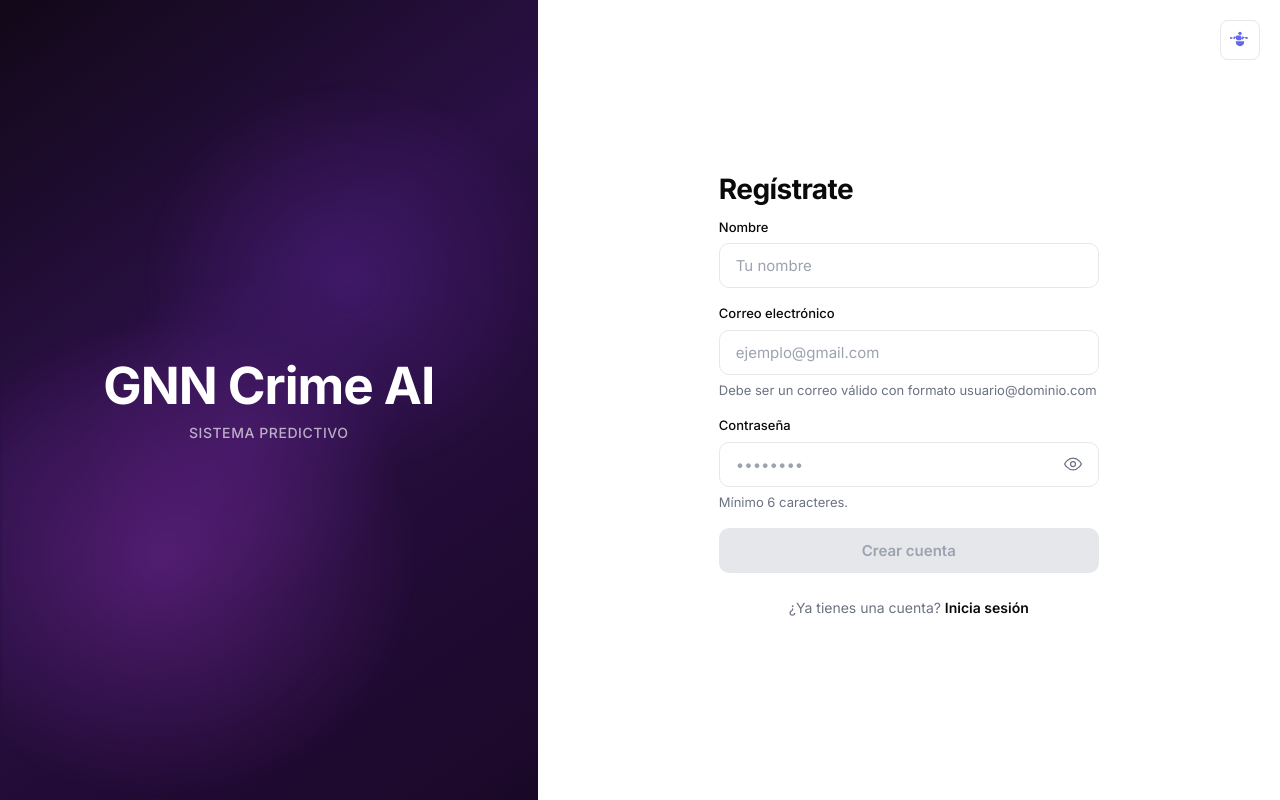
Test: RegisterPage › habilita el botón con formulario válido
Type "Juan Pérez" into the field with test id "register-name-input" at (909,266), box [719,243,1099,288]
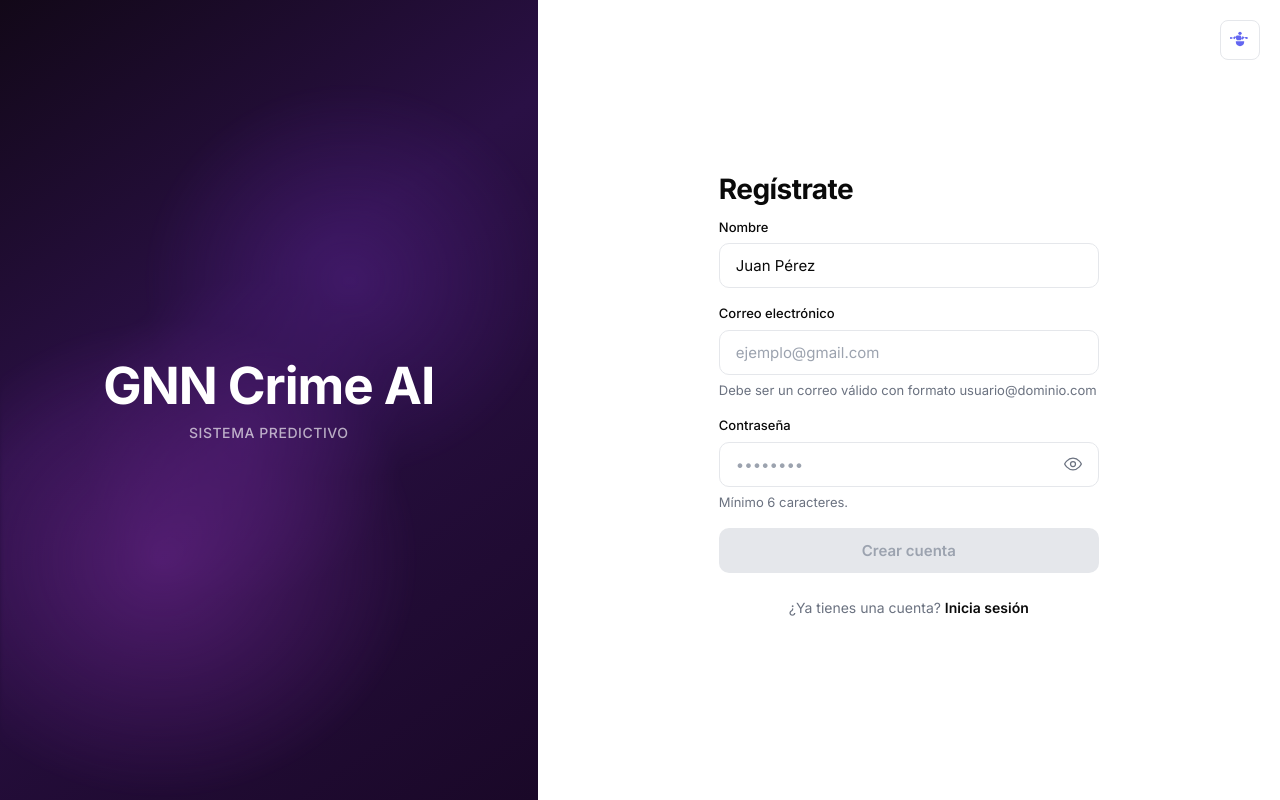
Type "juan@pnp.gob.pe" into the field with test id "register-email-input" at (909,352), box [719,330,1099,375]
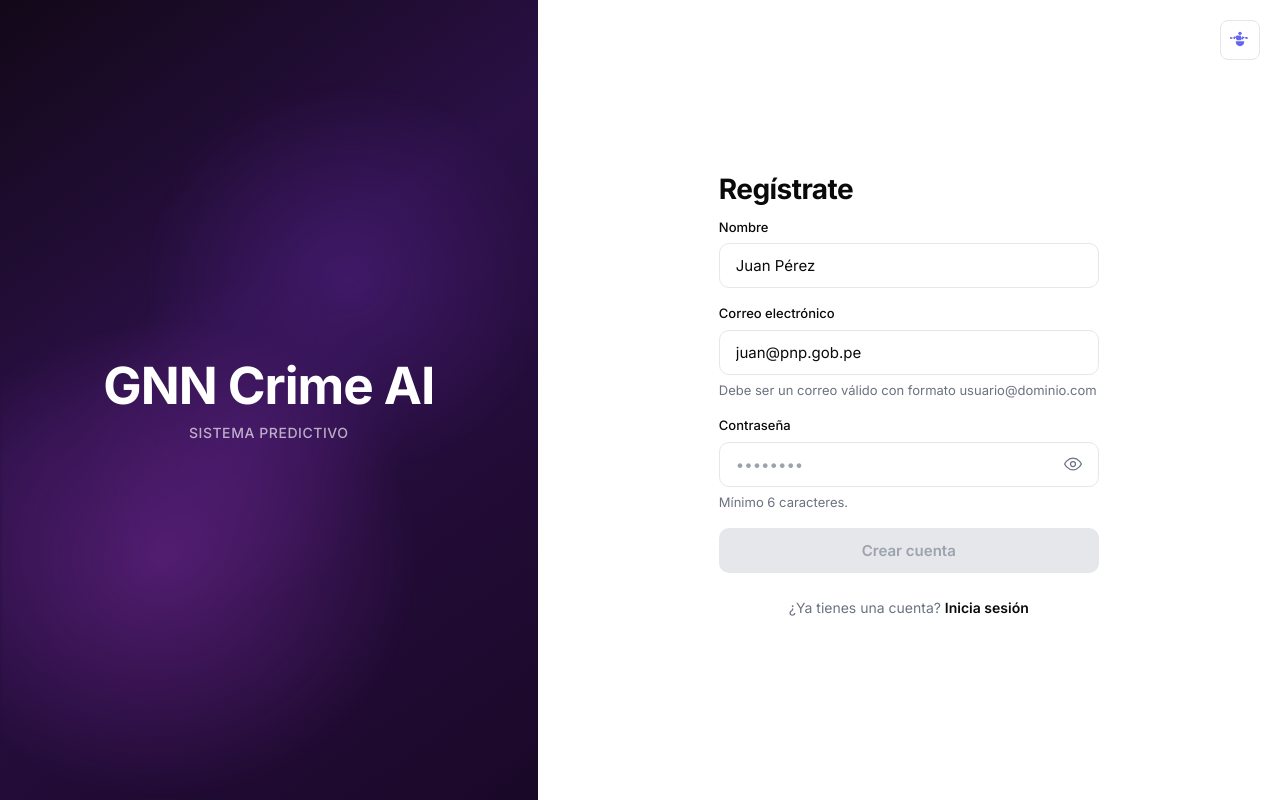
Type "clave123" into the password field with test id "register-password-input" at (909,464), box [719,442,1099,487]
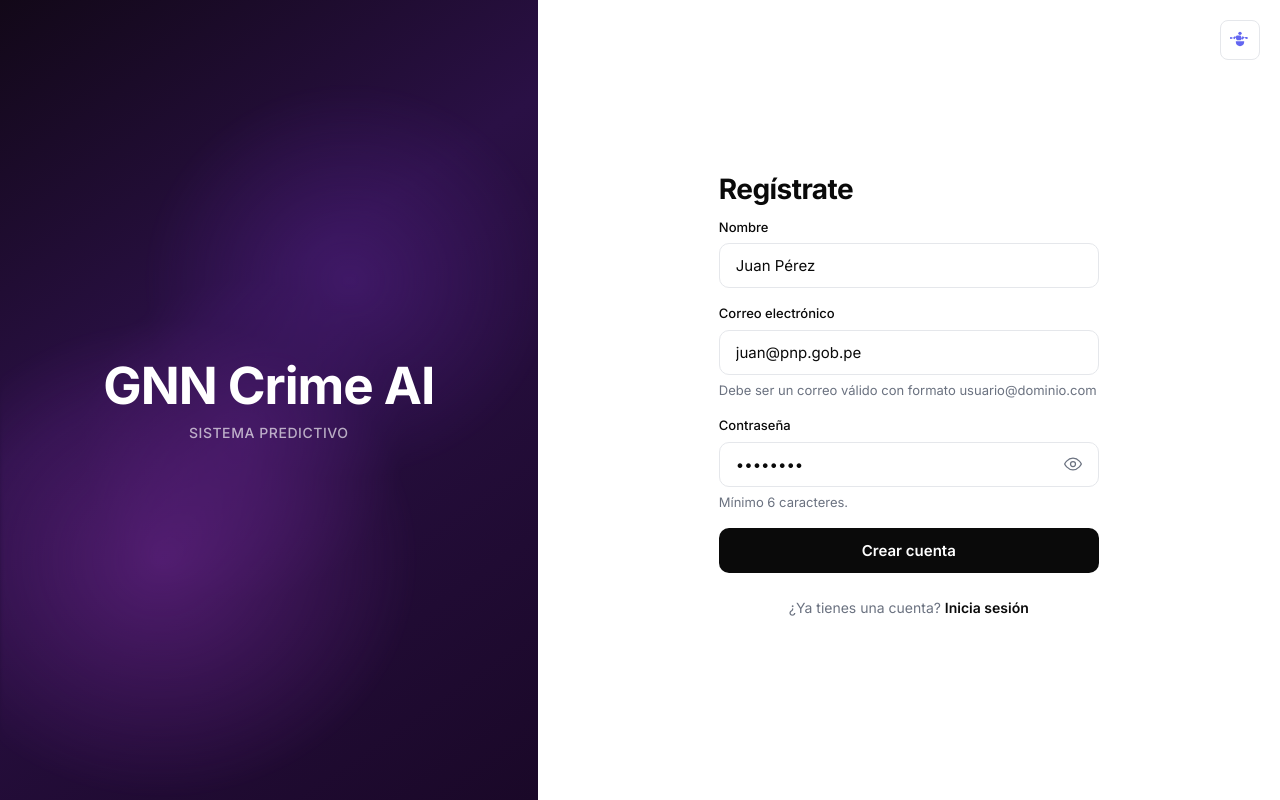
expect the button with test id "register-submit-button" is enabled: met, box [719,528,1099,573]
